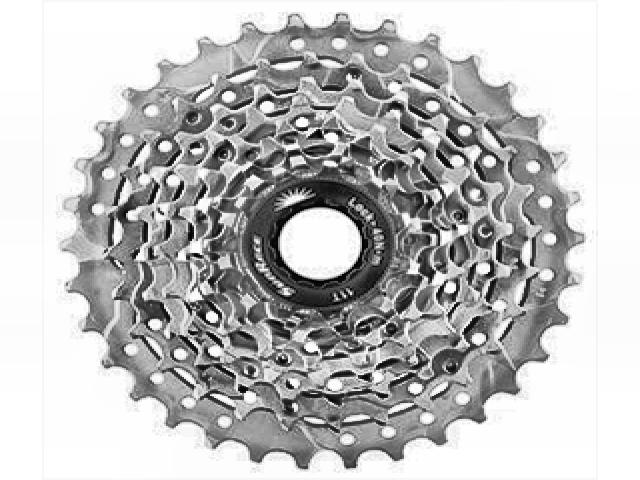cassette: (58, 12, 582, 473)
